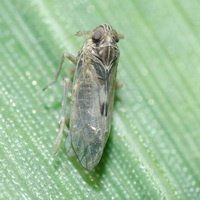insect: (43, 24, 122, 170)
